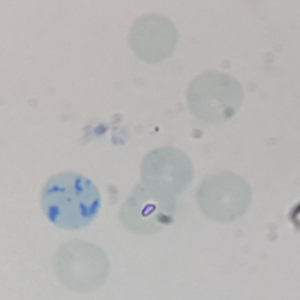aggregate reticulocyte: (38, 170, 104, 232)
erythrocyte: (116, 175, 180, 237), (183, 68, 247, 125), (52, 238, 111, 295), (194, 168, 254, 224), (138, 146, 195, 199), (126, 12, 181, 66)
